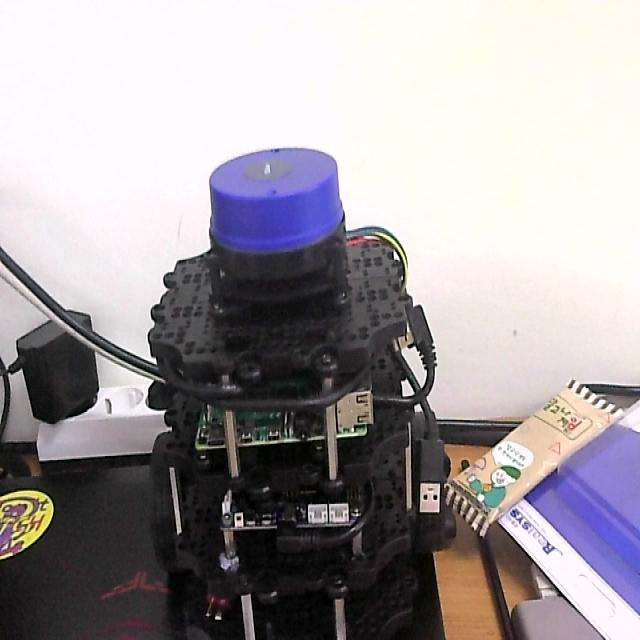turtle: (147, 145, 447, 640)
